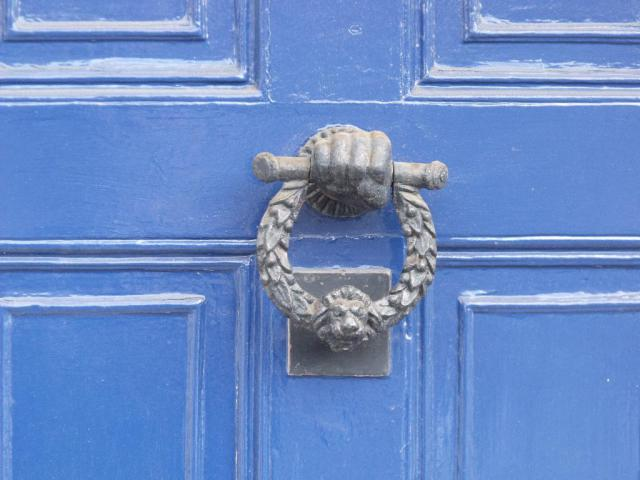Door-handle: (242, 123, 456, 343)
